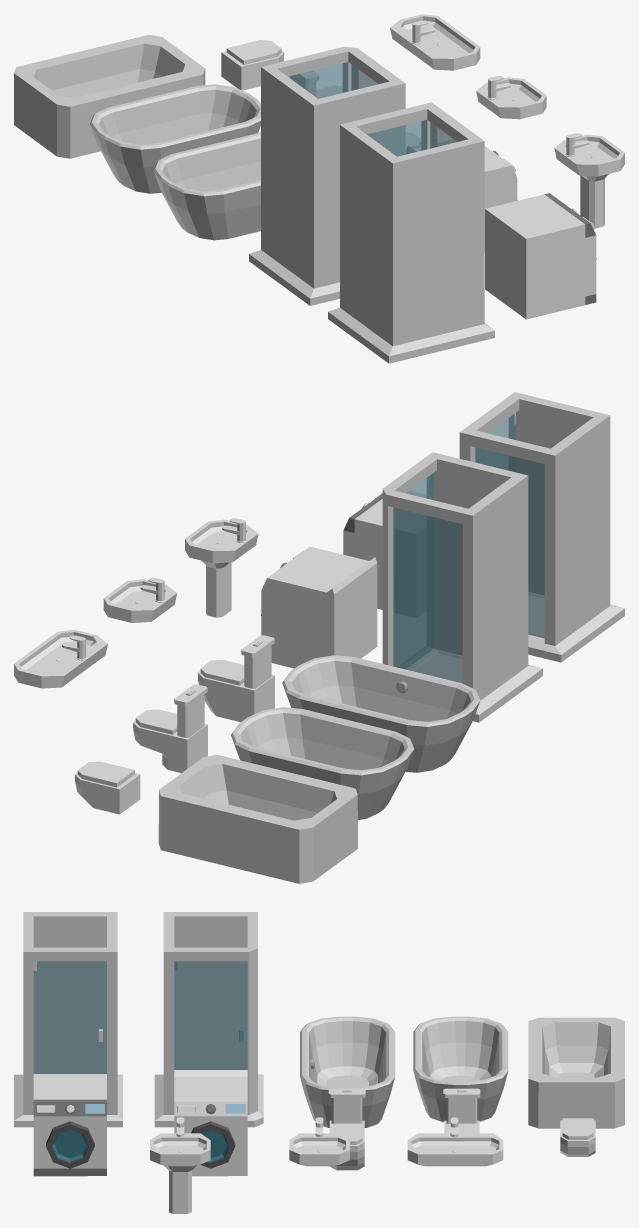
File: low_poly_bathroom_assets.glb
3 views of the same model, one above another, from view 1: azimuth 30°, elevation 25°; view 2: azimuth 150°, elevation 25°; view 3: azimuth 270°, elevation 25° (orthographic). The views are drawn at different scales.
Visible parts, largest first — view 1: Cube, Circle.001, Cube.007, Plane, Cube.006, Cube.004, Plane.004, Plane.008, Plane.007, Cube.014, Plane.003, Cube.001 (+2 smaller); view 2: Circle.001, Cube, Cube.007, Cube.004, Plane.003, Cube.006, Cube.010, Cube.011, Cube.012, Cube.013, Plane.004, Cube.001 (+5 smaller); view 3: Cube, Circle.001, Cube.007, Cube.002, Cube.004, Cube.011, Cube.006, Plane, Plane.003, Plane.008, Plane.004, Cube.012 (+3 smaller).
Part boxes in pixels (box(x1,y1,x2,y2)): Cube: box(328, 102, 494, 363); Circle.001: box(249, 46, 405, 305); Cube.007: box(14, 35, 205, 158); Plane: box(485, 193, 596, 319); Cube.006: box(90, 84, 260, 193); Cube.004: box(153, 132, 260, 240); Plane.004: box(554, 133, 624, 228); Plane.008: box(390, 14, 480, 70); Plane.007: box(476, 76, 546, 119); Cube.014: box(221, 40, 284, 90); Plane.003: box(406, 139, 517, 252); Cube.001: box(367, 120, 426, 156); Circle.001: box(382, 452, 542, 722); Cube: box(459, 392, 624, 662); Cube.007: box(158, 755, 357, 883); Cube.004: box(282, 655, 480, 772); Plane.003: box(261, 546, 377, 668); Cube.006: box(231, 707, 414, 819); Cube.010: box(393, 507, 462, 683); Cube.011: box(394, 473, 433, 668); Cube.012: box(197, 635, 274, 722); Cube.013: box(133, 684, 207, 773); Plane.004: box(185, 518, 258, 617); Cube.001: box(475, 447, 544, 638); Cube: box(14, 912, 122, 1127); Circle.001: box(154, 912, 263, 1127); Cube.007: box(528, 1017, 624, 1128); Cube.002: box(33, 961, 106, 1073); Cube.004: box(300, 1016, 395, 1127); Cube.011: box(174, 961, 247, 1069); Cube.006: box(413, 1016, 508, 1121); Plane: box(33, 1074, 106, 1176); Plane.003: box(174, 1070, 247, 1176); Plane.008: box(407, 1117, 503, 1166); Plane.004: box(150, 1117, 210, 1213); Cube.012: box(328, 1088, 365, 1170).
Size of the model in its own units: 7.64 by 3.99 by 12.75.
